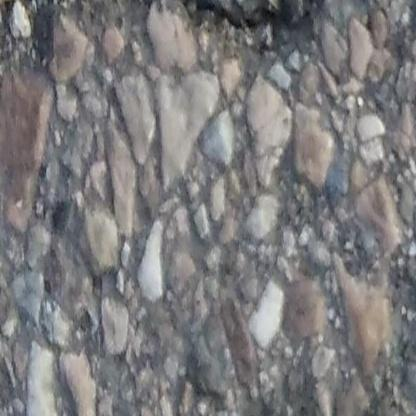Cracks: (163, 0, 324, 41), (0, 0, 82, 68)
